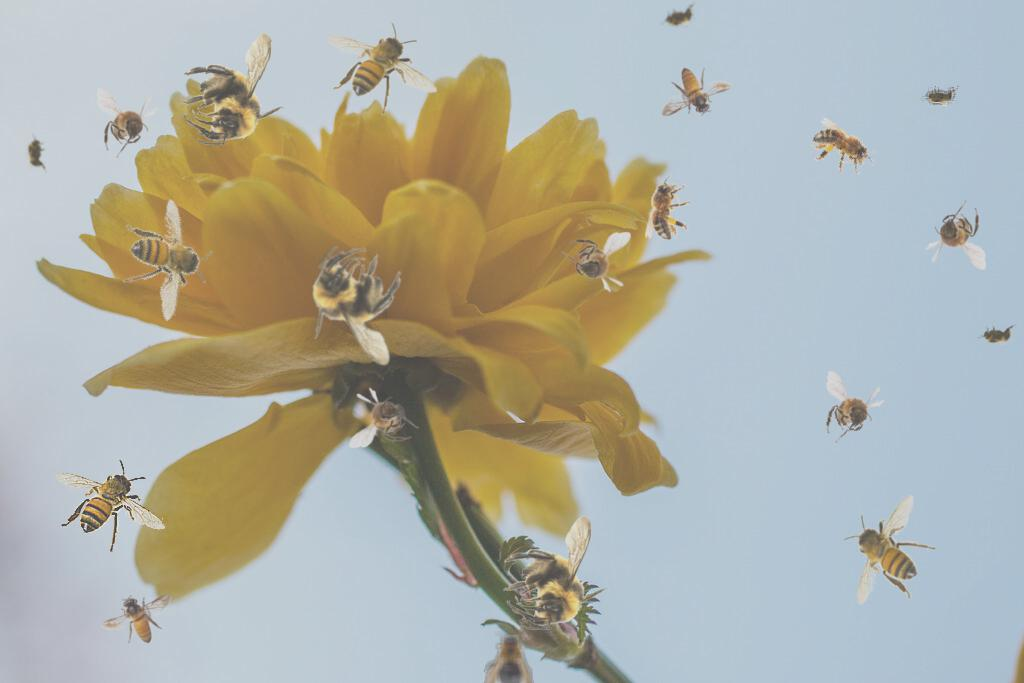Bee: (281, 229, 438, 384), (99, 192, 232, 332), (178, 28, 291, 149), (503, 515, 610, 630), (327, 22, 438, 116), (55, 459, 166, 553), (843, 494, 937, 605), (816, 370, 889, 450), (804, 116, 884, 183), (561, 232, 631, 293), (97, 88, 158, 158), (349, 387, 419, 448), (925, 200, 986, 270), (661, 67, 732, 117), (101, 594, 172, 644), (645, 174, 690, 240), (483, 629, 535, 683), (657, 1, 701, 33), (977, 324, 1017, 346), (25, 133, 47, 173), (920, 85, 960, 107)
